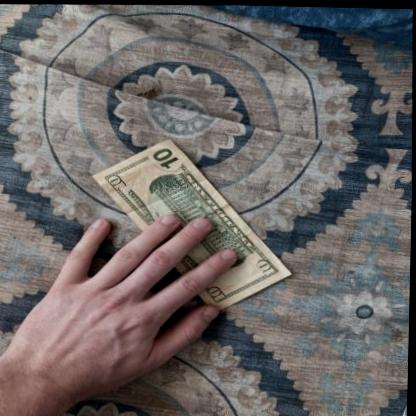ten-back: (92, 137, 292, 312)
